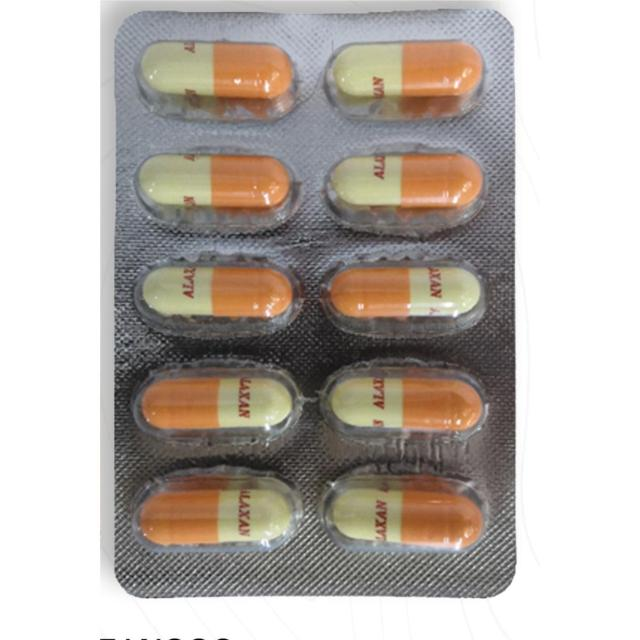blister: (110, 4, 521, 606)
